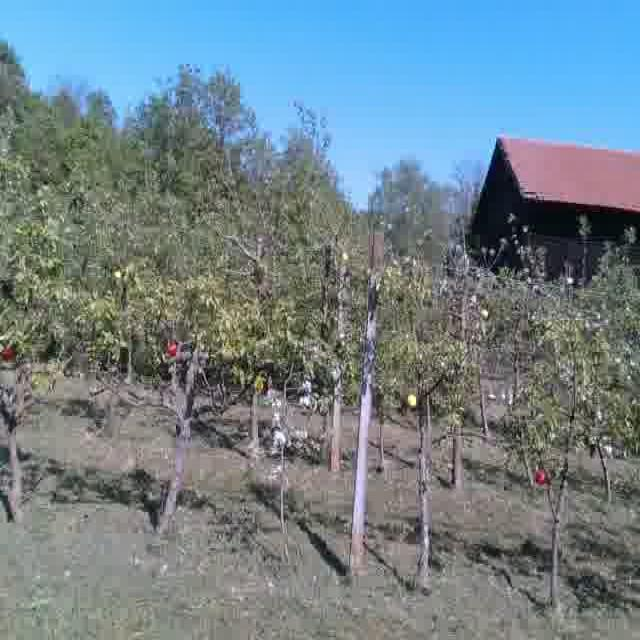red: (0, 341, 16, 364), (165, 341, 179, 361), (535, 467, 547, 485)
yellow: (406, 391, 419, 408)
